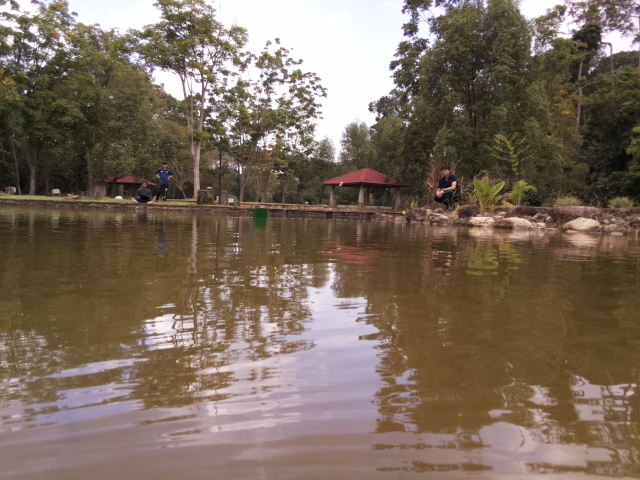obstacle: (251, 207, 269, 220)
